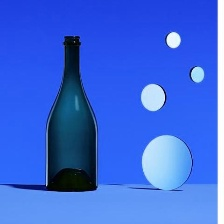bottle: (42, 33, 104, 195)
